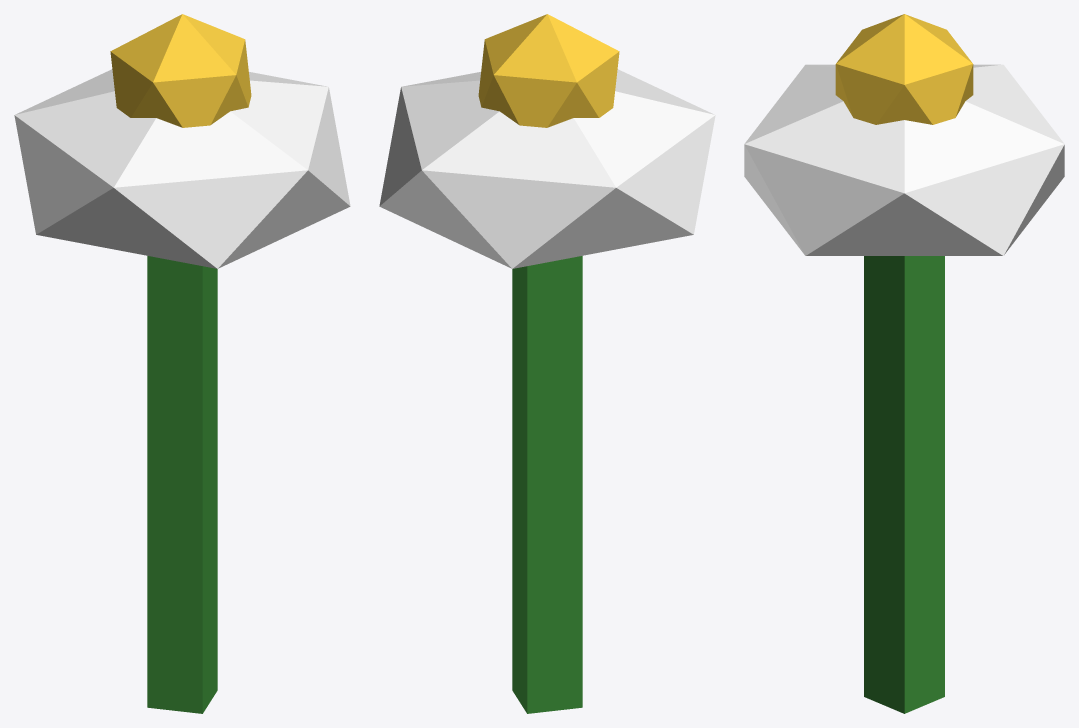
The model's file is flower.glb.
3 renders of one model, left to right at view 1: azimuth 30°, elevation 25°; view 2: azimuth 150°, elevation 25°; view 3: azimuth 270°, elevation 25°, orthographic.
Visible parts, largest first — view 1: Petals, Stem, Center; view 2: Petals, Stem, Center; view 3: Petals, Stem, Center.
Boxes of the visible parts, x1,y1,x2,y2 form: Petals: (14, 69, 350, 268); Stem: (147, 256, 217, 713); Center: (110, 14, 251, 127); Petals: (379, 69, 715, 268); Stem: (512, 256, 582, 713); Center: (478, 14, 619, 127); Petals: (744, 64, 1064, 255); Stem: (864, 256, 944, 713); Center: (835, 14, 973, 124).
Size of the model in its own units: 0.1252 by 0.28 by 0.1191.
